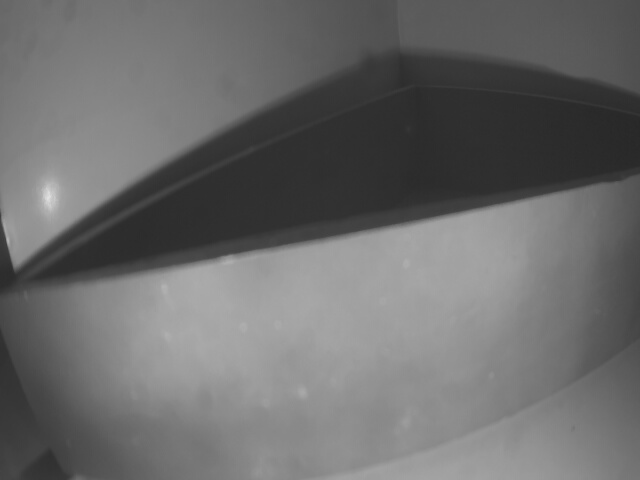Red: (0, 177, 639, 480)
